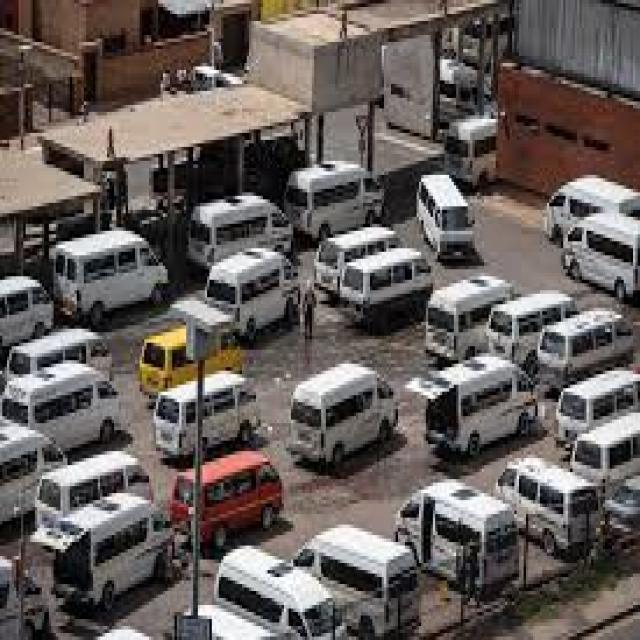MiniBus taxi: (286, 353, 401, 472), (54, 220, 168, 329), (414, 164, 482, 256)
